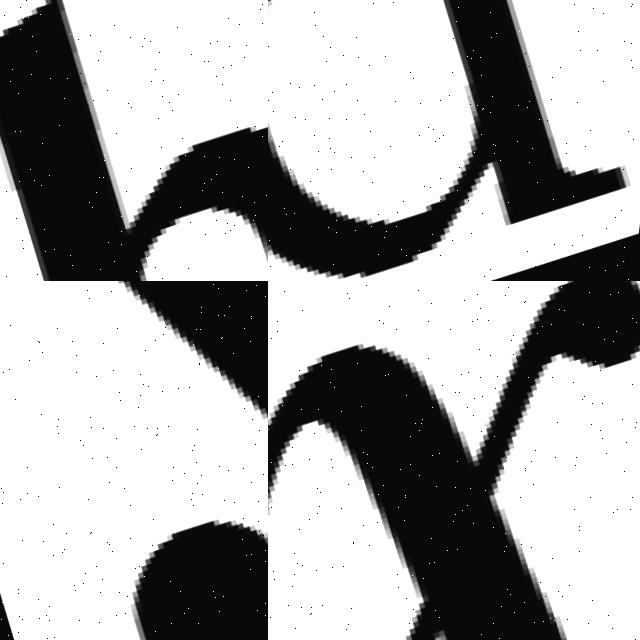D: (268, 0, 640, 281)
H: (0, 0, 268, 281)
X: (268, 281, 640, 640)
Y: (0, 281, 268, 640)
